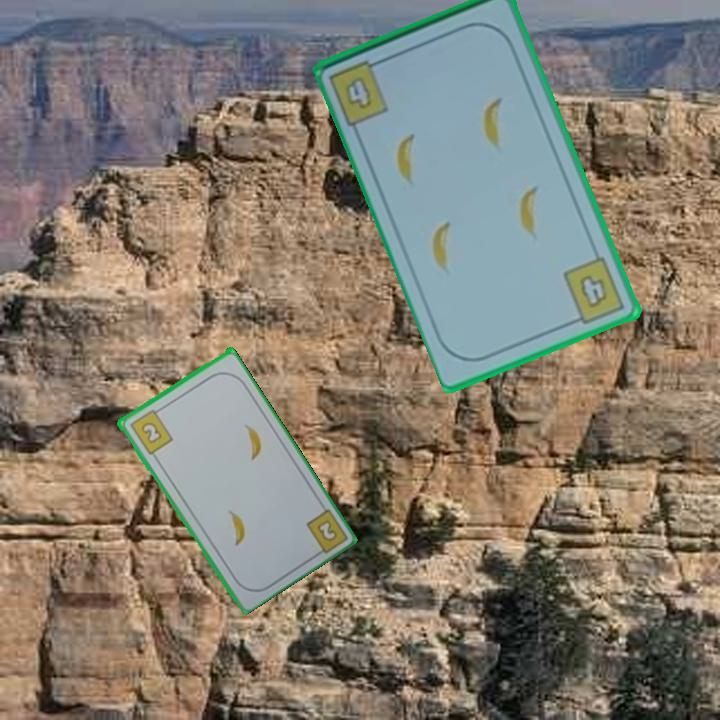2b: (126, 404, 175, 457), (313, 516, 340, 544)
4b: (560, 253, 628, 328), (325, 55, 392, 129)
